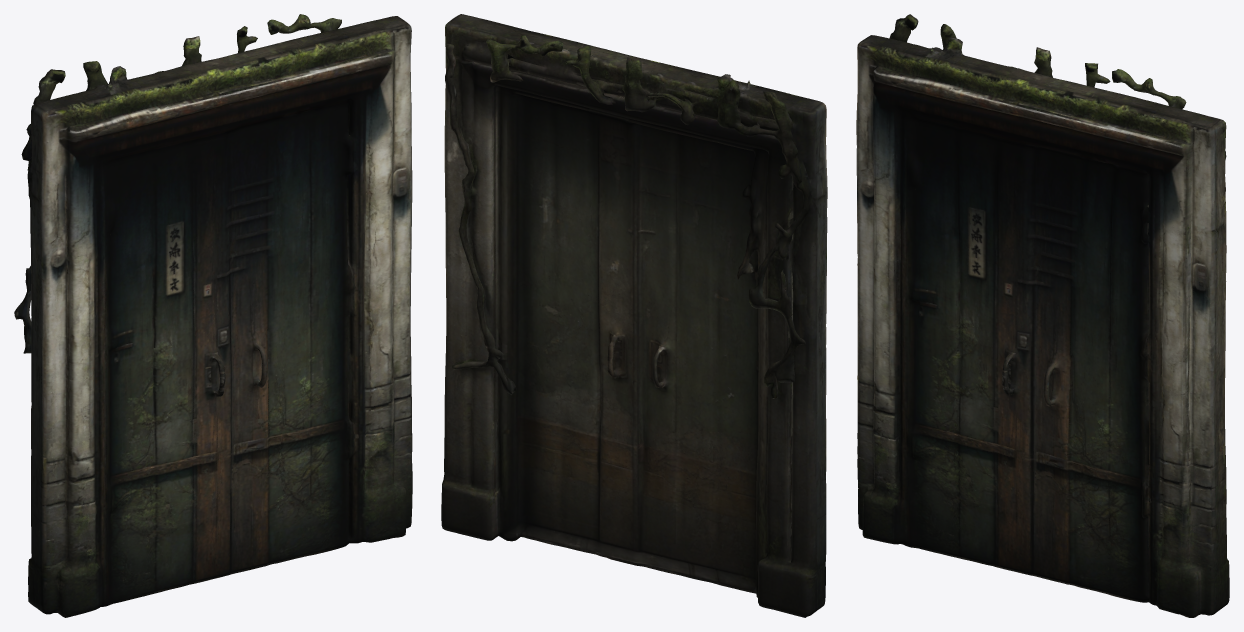
File: Door_A_dark_atmosphe_0422110940_refine.fbx
3 renders of one model, left to right at view 1: azimuth 30°, elevation 25°; view 2: azimuth 150°, elevation 25°; view 3: azimuth 330°, elevation 25°, orthographic. The views are drawn at different scales.
Parts seen in each view (by area): view 1: Mesh1; view 2: Mesh1; view 3: Mesh1.
Boxes of the visible parts, bbox=[...] form: Mesh1: bbox=[14, 14, 412, 617]; Mesh1: bbox=[441, 14, 827, 617]; Mesh1: bbox=[856, 14, 1229, 617].
Bounding box in the file's own units: 149 × 201 × 28.85.
1 material, 1 textured.
